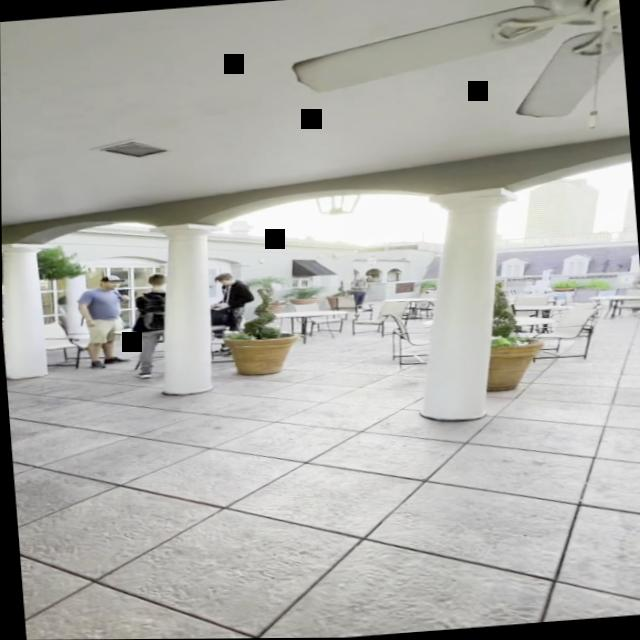NO-Mask: (102, 275, 118, 290), (214, 275, 230, 287)
